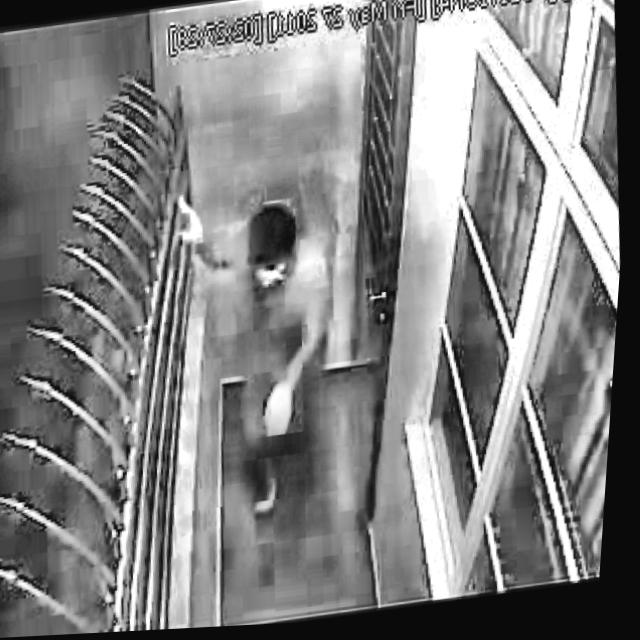burglary: (149, 166, 365, 533)
